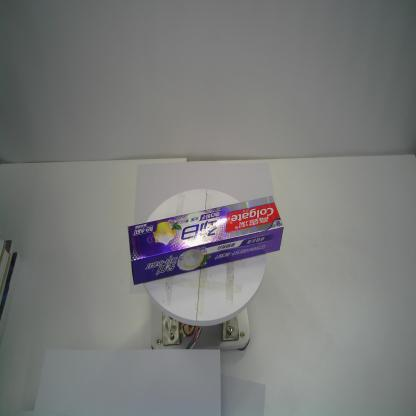Personal Hygiene: (127, 194, 284, 287)
